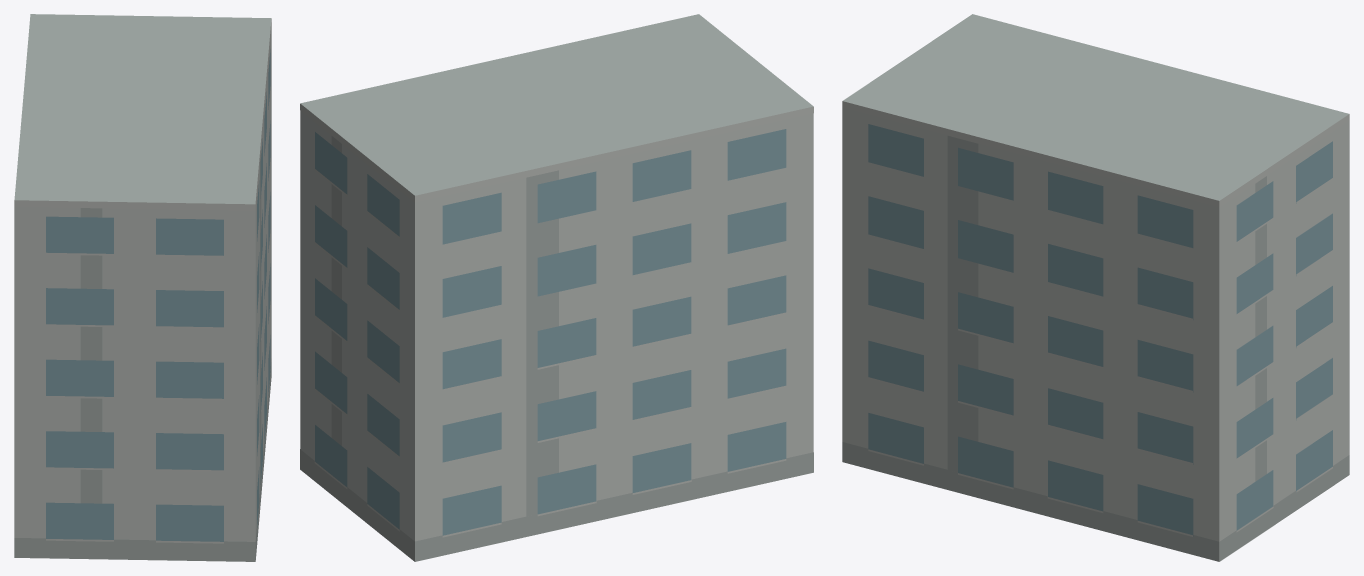
File: survey-upis-32700602.glb
The picture shows the model from 3 angles, left to right: view 1: azimuth 30°, elevation 25°; view 2: azimuth 150°, elevation 25°; view 3: azimuth 270°, elevation 25°; orthographic projection. The views are drawn at different scales.
Visible parts, largest first — view 1: survey-upis-32700602.tmp; view 2: survey-upis-32700602.tmp; view 3: survey-upis-32700602.tmp.
Boxes of the visible parts, x1,y1,x2,y2 form: survey-upis-32700602.tmp: (14, 14, 271, 561); survey-upis-32700602.tmp: (300, 14, 813, 561); survey-upis-32700602.tmp: (842, 14, 1349, 561).
Size of the model in its own units: 14.55 by 13.1 by 16.69.
